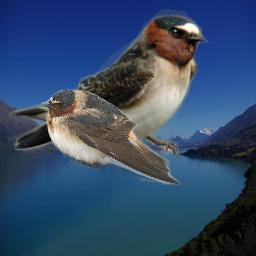Swallow: (9, 9, 212, 158), (41, 89, 180, 185)
